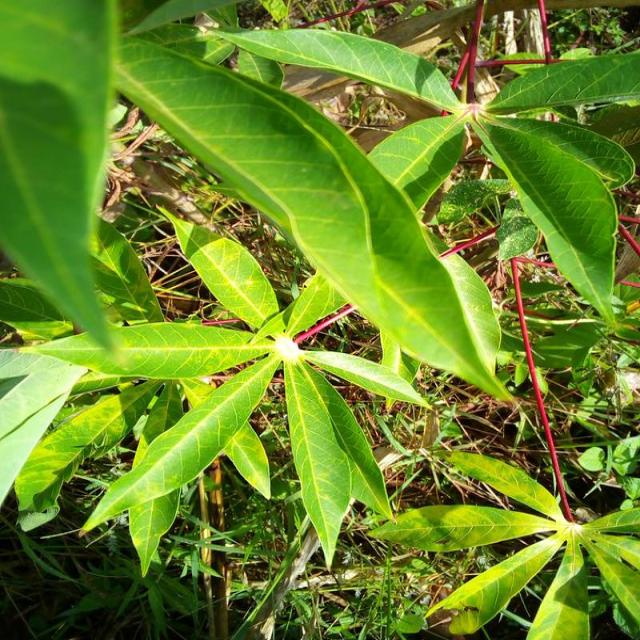cassava leaf: (112, 31, 511, 404), (473, 111, 634, 328)
